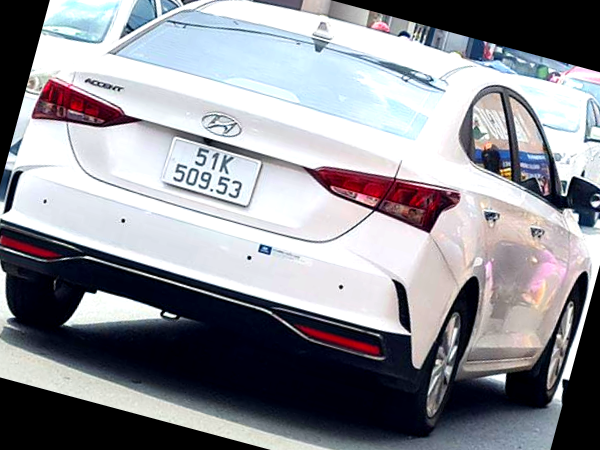lisence: (165, 137, 261, 207)
